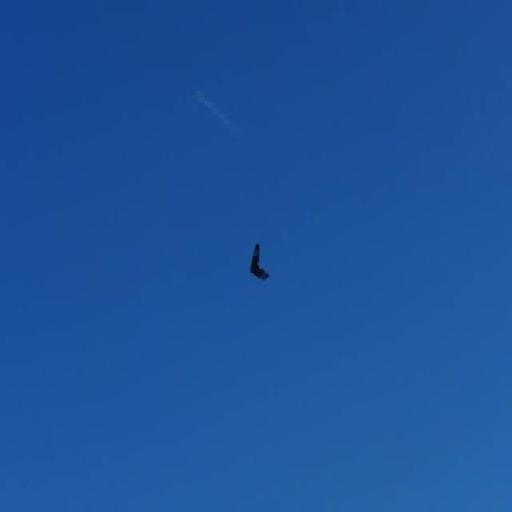uav: (247, 236, 273, 290)
